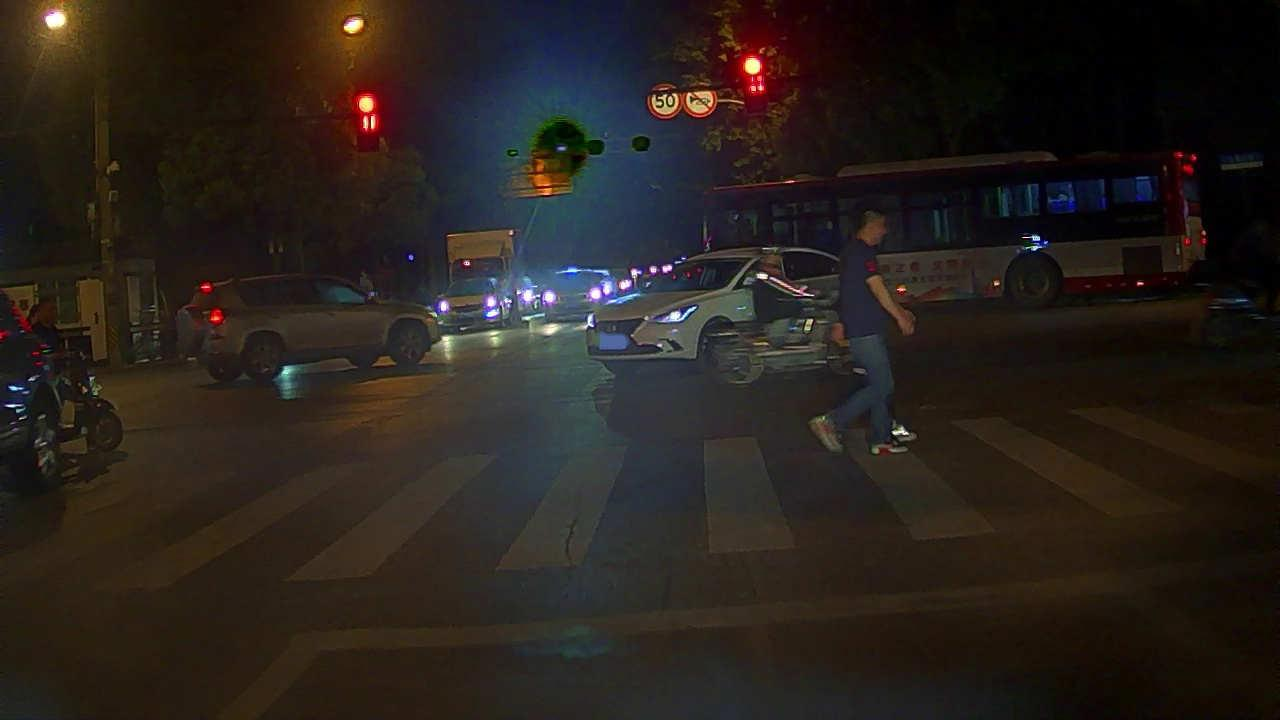traffic_light: (742, 56, 767, 116), (357, 93, 379, 151)
